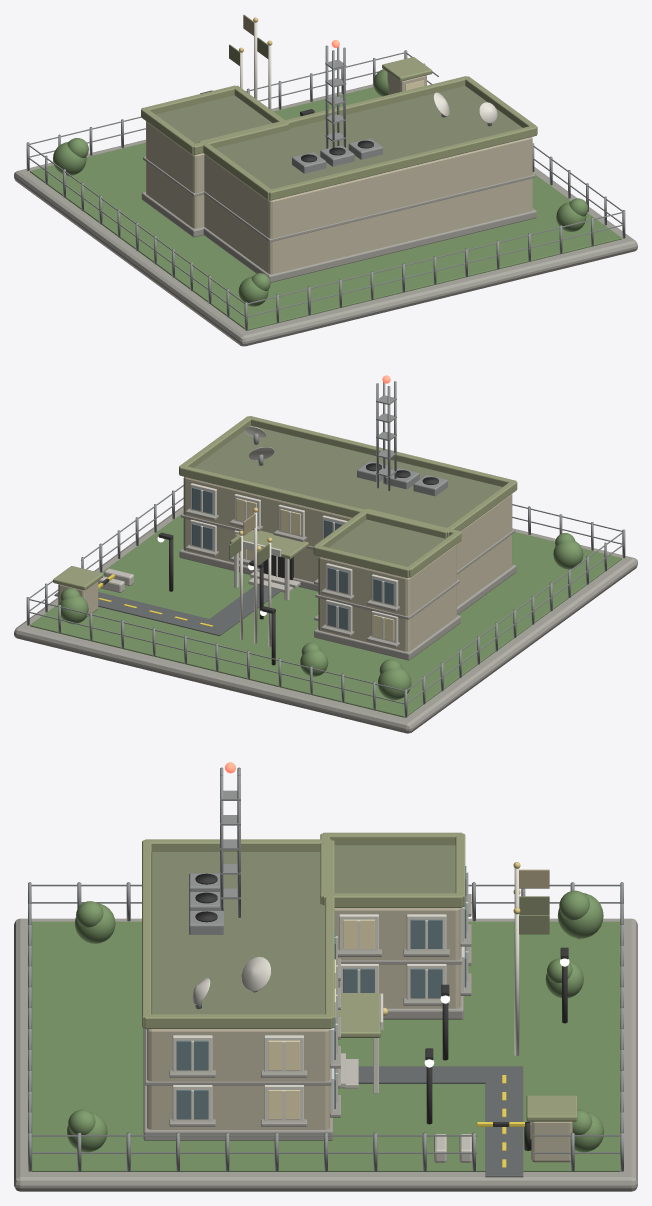
3 renders of one model, top to bottom at view 1: azimuth 30°, elevation 25°; view 2: azimuth 150°, elevation 25°; view 3: azimuth 270°, elevation 25°, orthographic. The views are drawn at different scales.
Visible parts, largest first — view 1: Cube.001, Cube.018, Cube, Cube.081, Cube.094, Cube.082, Cube.129, Cube.019, Cube.083, Cube.080, Cube.084, Cube.130 (+12 smaller); view 2: Cube.001, Cube.081, Cube, Cube.018, Cube.094, Cube.129, Cube.083, Cube.082, Cube.003, Cube.019, Cube.095, Cube.131 (+16 smaller); view 3: Cube.001, Cube.081, Cube, Cube.018, Cube.129, Cube.094, Cube.003, Cube.085, Cube.002, Cube.019, Cube.084, Cube.133 (+33 smaller).
Boxes of the visible parts, bbox=[...] form: Cube.001: bbox=[30, 87, 621, 330]; Cube.018: bbox=[204, 137, 532, 274]; Cube: bbox=[14, 84, 637, 346]; Cube.081: bbox=[215, 86, 522, 189]; Cube.094: bbox=[146, 121, 204, 228]; Cube.082: bbox=[269, 126, 536, 200]; Cube.129: bbox=[156, 95, 272, 143]; Cube.019: bbox=[203, 208, 536, 282]; Cube.083: bbox=[200, 76, 467, 141]; Cube.080: bbox=[204, 173, 535, 242]; Cube.084: bbox=[199, 141, 270, 200]; Cube.130: bbox=[193, 122, 288, 154]; Cube.001: bbox=[30, 513, 621, 717]; Cube.081: bbox=[194, 425, 502, 527]; Cube: bbox=[14, 505, 637, 733]; Cube.018: bbox=[183, 476, 512, 606]; Cube.094: bbox=[318, 544, 456, 651]; Cube.129: bbox=[328, 519, 445, 566]; Cube.083: bbox=[179, 465, 447, 538]; Cube.082: bbox=[248, 416, 516, 486]; Cube.003: bbox=[54, 592, 233, 636]; Cube.019: bbox=[179, 548, 516, 614]; Cube.095: bbox=[314, 615, 460, 660]; Cube.131: bbox=[314, 545, 409, 577]; Cube.001: bbox=[31, 921, 620, 1171]; Cube.081: bbox=[151, 852, 325, 1014]; Cube: bbox=[14, 918, 637, 1191]; Cube.018: bbox=[147, 1029, 329, 1129]; Cube.129: bbox=[334, 845, 455, 893]; Cube.094: bbox=[334, 908, 460, 1008]; Cube.003: bbox=[485, 1066, 523, 1177]; Cube.085: bbox=[144, 1014, 332, 1028]; Cube.002: bbox=[358, 1066, 500, 1083]; Cube.019: bbox=[143, 1028, 332, 1140]; Cube.084: bbox=[145, 839, 331, 851]; Cube.133: bbox=[322, 893, 462, 907].
Bounding box in the file's own units: 3.92 × 1.96 × 3.92.
